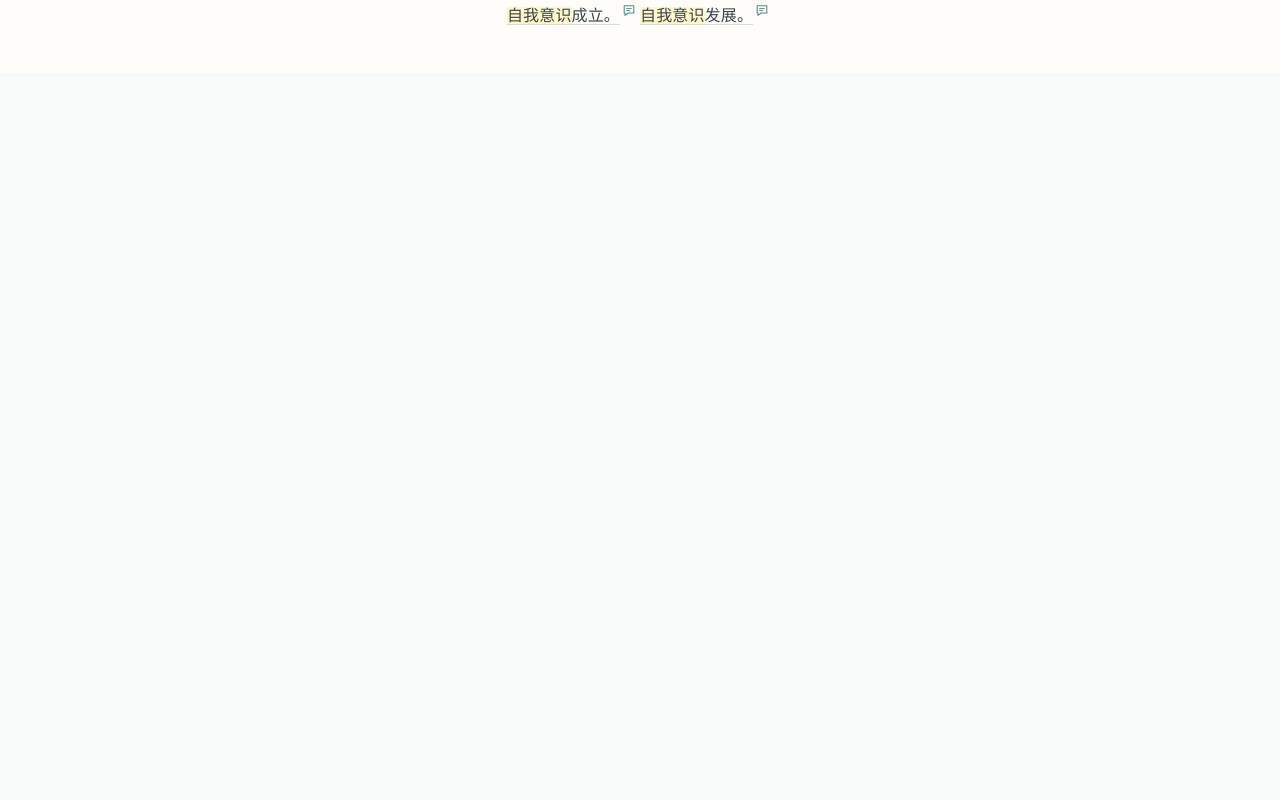
精读同段同名词按句读块独立展示，当前词位重读后实时更新并折叠旧版
The image size is (1280, 800).
Click the 1st button with class "judu-concept-term" at (539, 16), box x1=507 y1=7 x2=572 y2=24
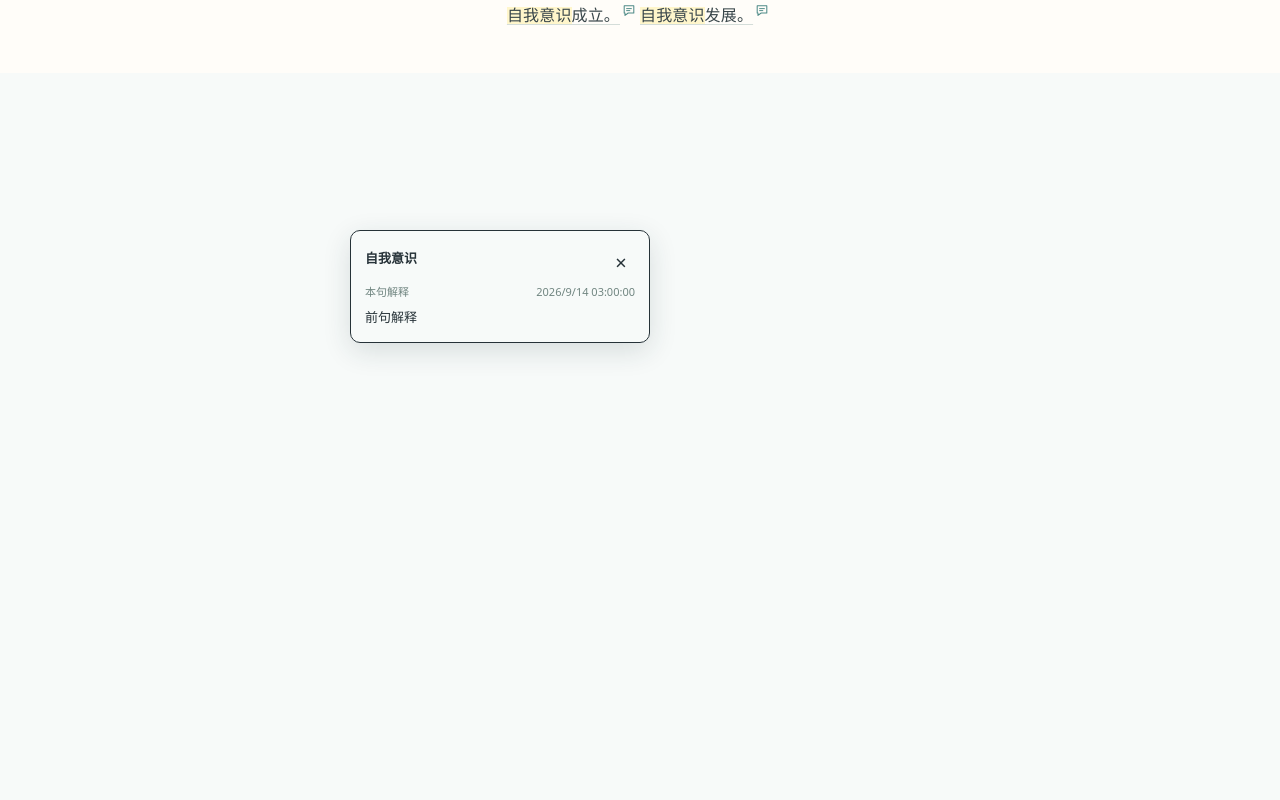
Expected: the element with class "judu-concept-definition" does not show "后句解释"
Now the element with class "judu-concept-definition" shows "前句解释", box x1=365 y1=308 x2=417 y2=326
Click the 2nd button with class "judu-concept-term" at (672, 16), box x1=640 y1=7 x2=705 y2=24
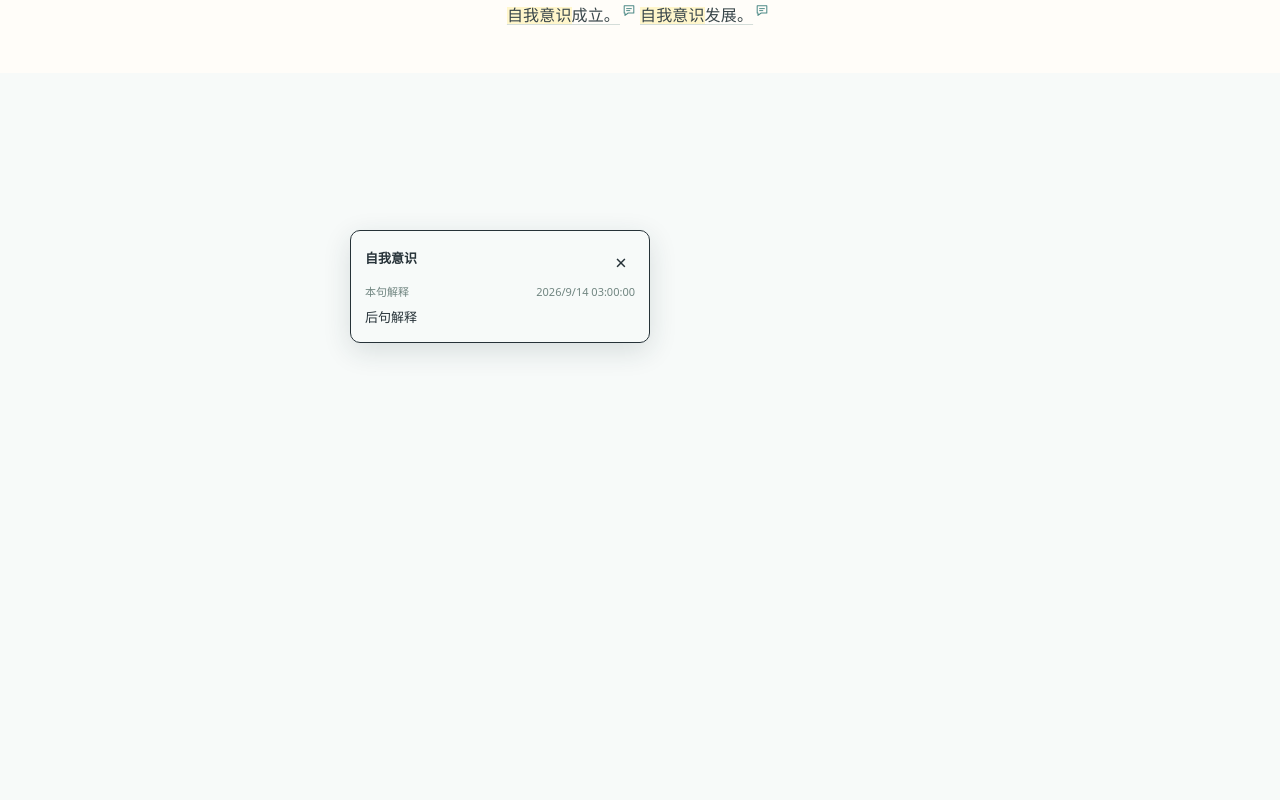
Now the element with class "judu-concept-definition" shows "后句解释", box x1=365 y1=308 x2=417 y2=326
Now the text with class "judu-concept-definition" no longer shows "前句解释"
Click the 1st button with class "judu-concept-term" at (539, 16), box x1=507 y1=7 x2=572 y2=24
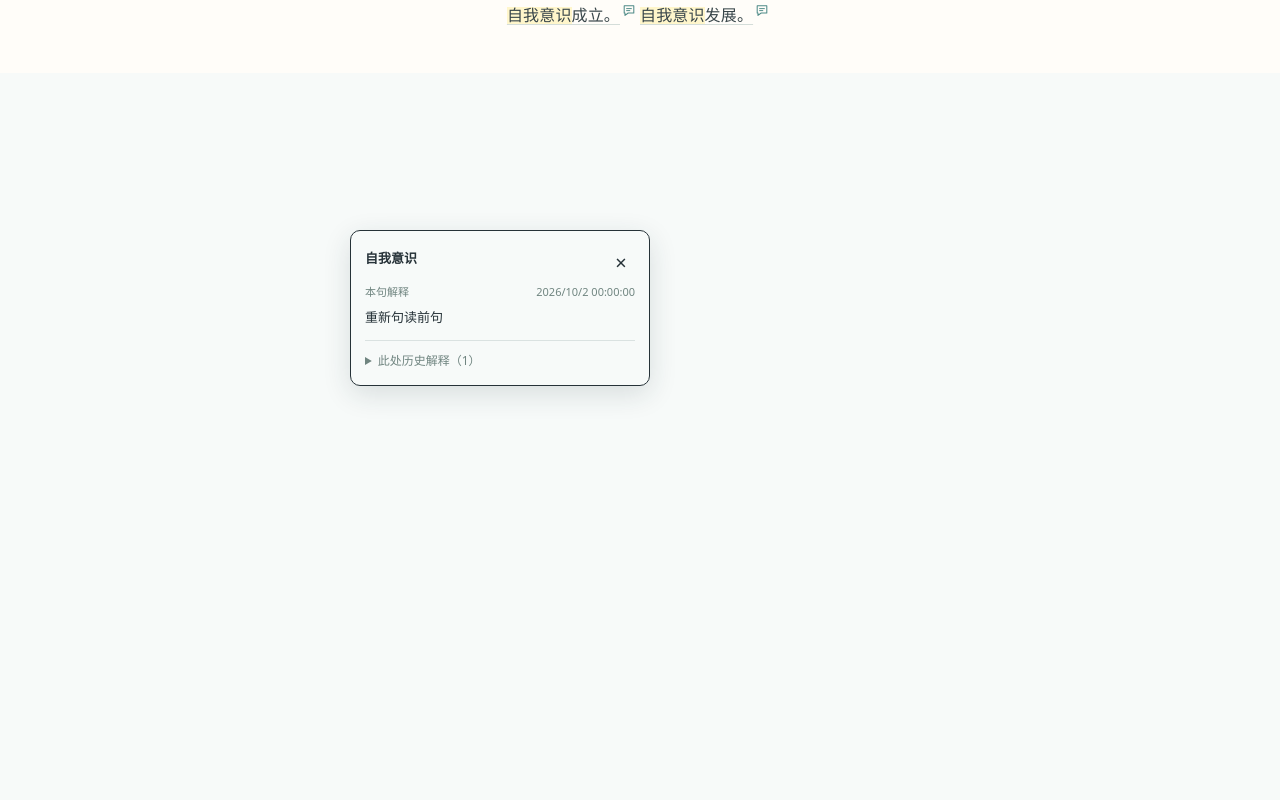
Expected: the element showing "自我意识 成立。 自我意识 发展。" is shown, x1=507 y1=0 x2=773 y2=32
Now the element showing "本句解释 2026/10/2 00:00:00 重新句读前句" is shown, box x1=365 y1=283 x2=635 y2=328
Now the text with class "judu-concept-definition" no longer shows "后句解释"
